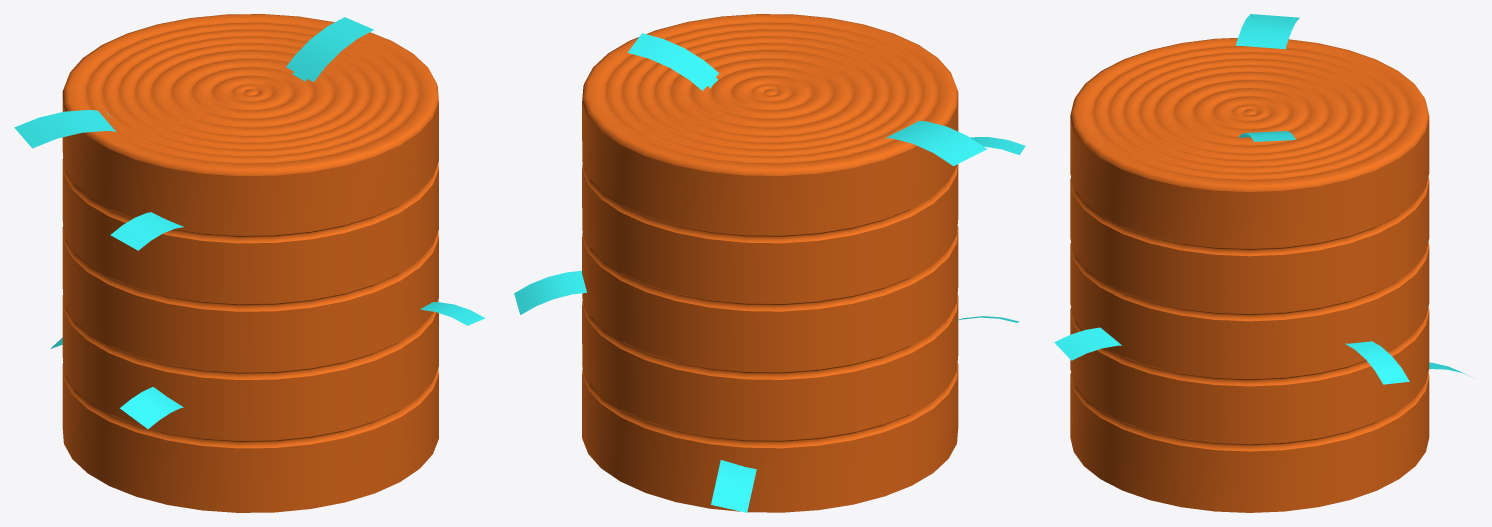
The model's file is Foin.FBX.
The picture shows the model from 3 angles, left to right: view 1: azimuth 30°, elevation 25°; view 2: azimuth 150°, elevation 25°; view 3: azimuth 270°, elevation 25°; orthographic projection. The views are drawn at different scales.
Parts seen in each view (by area): view 1: Foin; view 2: Foin; view 3: Foin.
Boxes of the visible parts, bbox=[...] form: Foin: bbox=[14, 14, 485, 512]; Foin: bbox=[514, 14, 1025, 512]; Foin: bbox=[1054, 14, 1475, 512].
Size of the model in its own units: 124 by 109 by 118.
